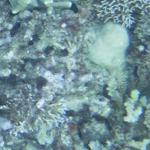dead: (1, 39, 142, 147)
